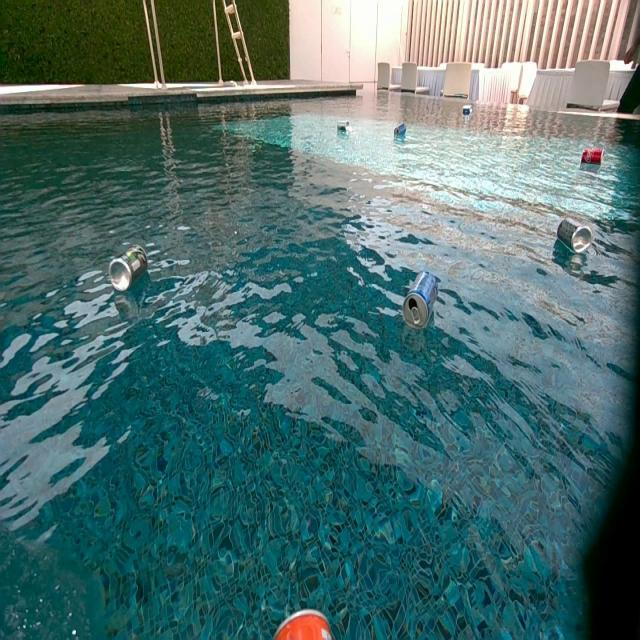Cans: (403, 272, 442, 333), (266, 609, 336, 640), (108, 246, 148, 293), (556, 218, 594, 254), (582, 148, 603, 164), (338, 122, 351, 136), (393, 125, 406, 138), (462, 106, 472, 115)
